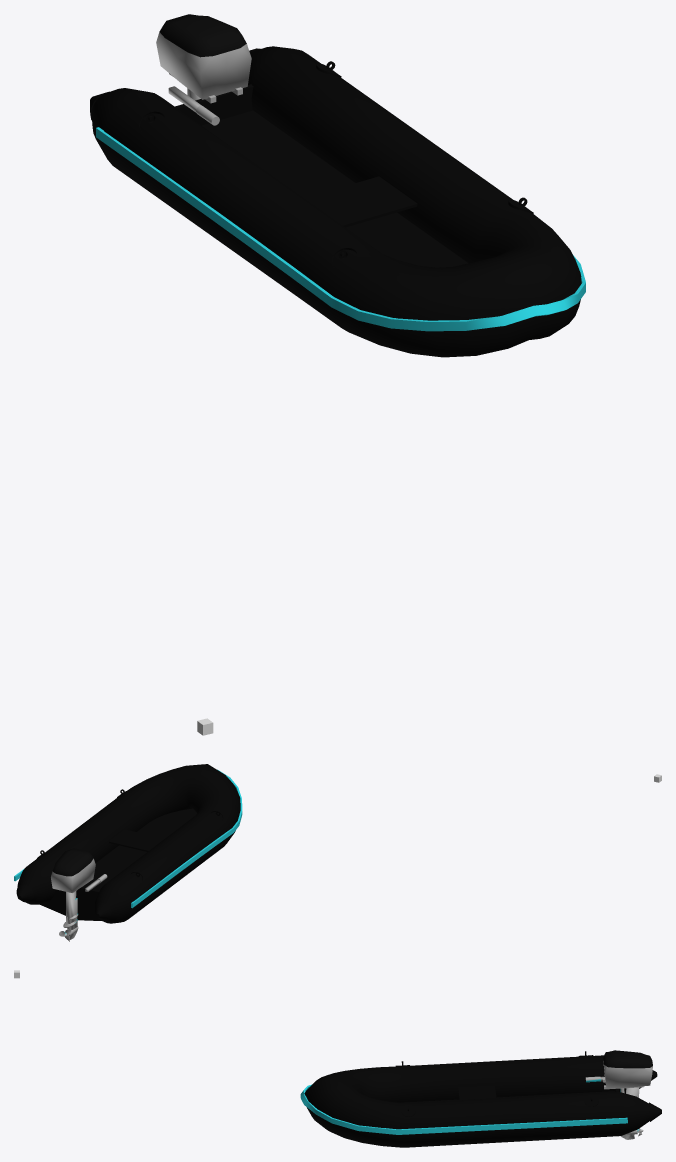
File: bote_infl2.glb
3 views of the same model, one above another, from view 1: azimuth 30°, elevation 25°; view 2: azimuth 150°, elevation 25°; view 3: azimuth 270°, elevation 25° (orthographic). The views are drawn at different scales.
Parts seen in each view (by area): view 1: infboats; view 2: infboats; view 3: infboats.
Part boxes in pixels (box(x1,y1,x2,y2)): infboats: box(90, 14, 585, 357); infboats: box(14, 764, 242, 941); infboats: box(300, 1050, 661, 1147).
Bounding box in the file's own units: 142 × 30.49 × 212.
